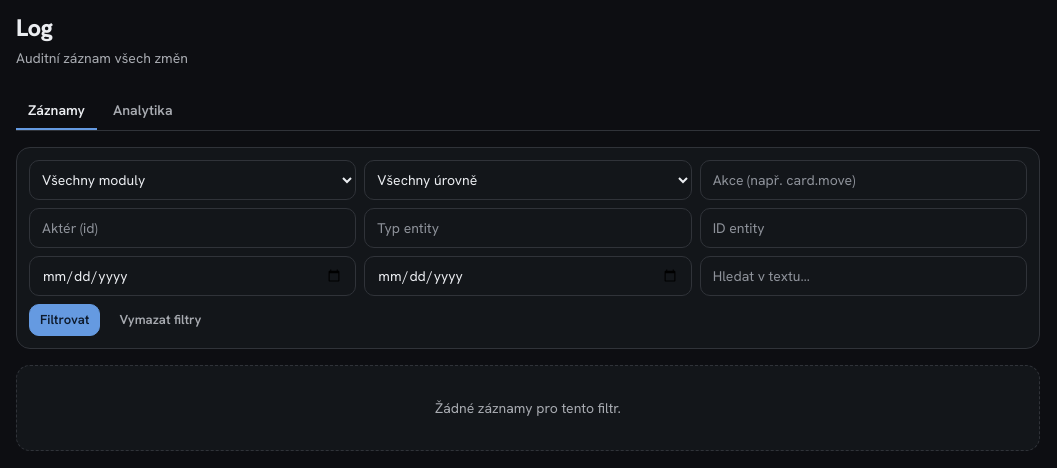
Test: LogPage › offers a retry when the stats request fails, never the empty state
The width and height of the screenshot is (1057, 468).
Click the tab "Analytika".
click(143, 111)  # box [101, 92, 185, 130]
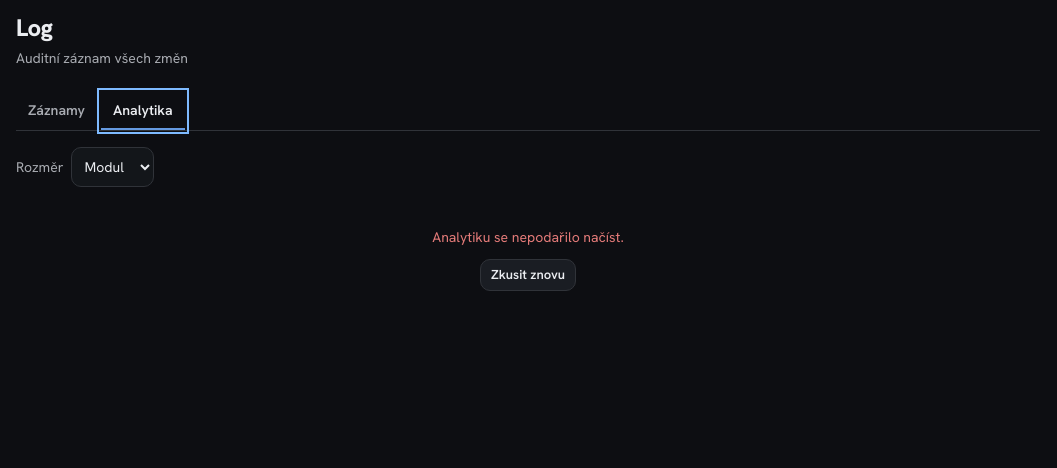
Result: the button "Zkusit znovu" is shown at [480, 259, 576, 291]
